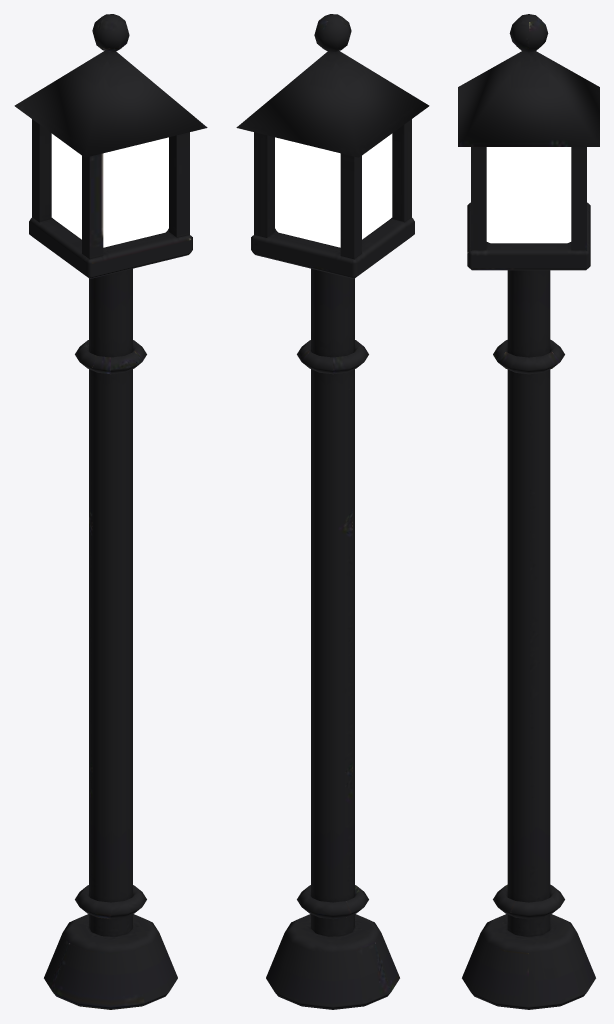
File: lamp.glb
3 views of the same model, side by side, from view 1: azimuth 30°, elevation 25°; view 2: azimuth 150°, elevation 25°; view 3: azimuth 270°, elevation 25° (orthographic).
Parts seen in each view (by area): view 1: lamp; view 2: lamp; view 3: lamp.
Boxes of the visible parts, x1,y1,x2,y2 form: lamp: (14,14,207,1009); lamp: (236,14,429,1009); lamp: (458,14,599,1009).
Size of the model in its own units: 0.1839 by 1.39 by 0.1839.
Materials: 1 (1 with a texture image).
